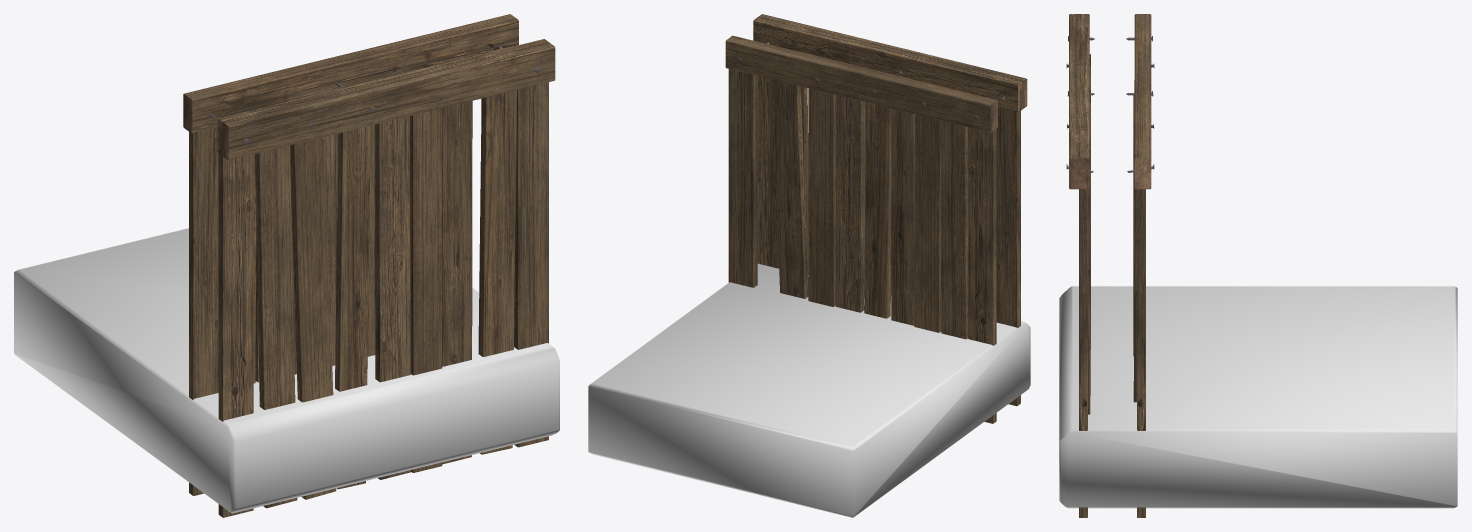
Rendered from SM_Wall_LowPart_C.fbx.
The picture shows the model from 3 angles, left to right: view 1: azimuth 30°, elevation 25°; view 2: azimuth 150°, elevation 25°; view 3: azimuth 270°, elevation 25°; orthographic projection. The views are drawn at different scales.
Parts seen in each view (by area): view 1: SM_Wall_LowPart_C, SM_Wall_LowPart_C_ConvexHulls; view 2: SM_Wall_LowPart_C, SM_Wall_LowPart_C_ConvexHulls; view 3: SM_Wall_LowPart_C_ConvexHulls, SM_Wall_LowPart_C.
Boxes of the visible parts, box(x1,y1,x2,y2) form: SM_Wall_LowPart_C: box(183, 14, 555, 517); SM_Wall_LowPart_C_ConvexHulls: box(14, 228, 559, 513); SM_Wall_LowPart_C: box(725, 14, 1027, 423); SM_Wall_LowPart_C_ConvexHulls: box(588, 263, 1030, 517); SM_Wall_LowPart_C_ConvexHulls: box(1059, 286, 1457, 508); SM_Wall_LowPart_C: box(1066, 14, 1154, 517).
Size of the model in its own units: 1.5 by 1.75 by 1.75.
